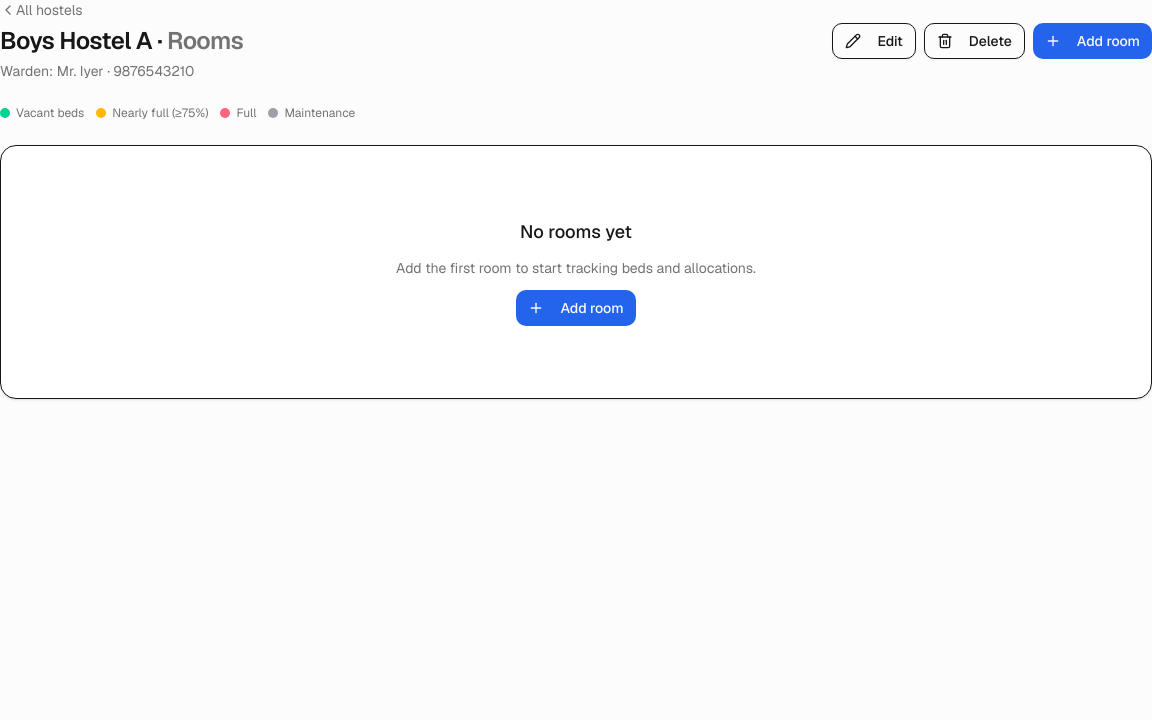
Test: deleting a hostel › asks before deleting, naming the hostel
Expected: the heading "Boys Hostel A · Rooms" is shown, x1=0 y1=25 x2=243 y2=57
Click the button with aria-label "delete hostel" at (974, 40), box x1=924 y1=22 x2=1025 y2=58
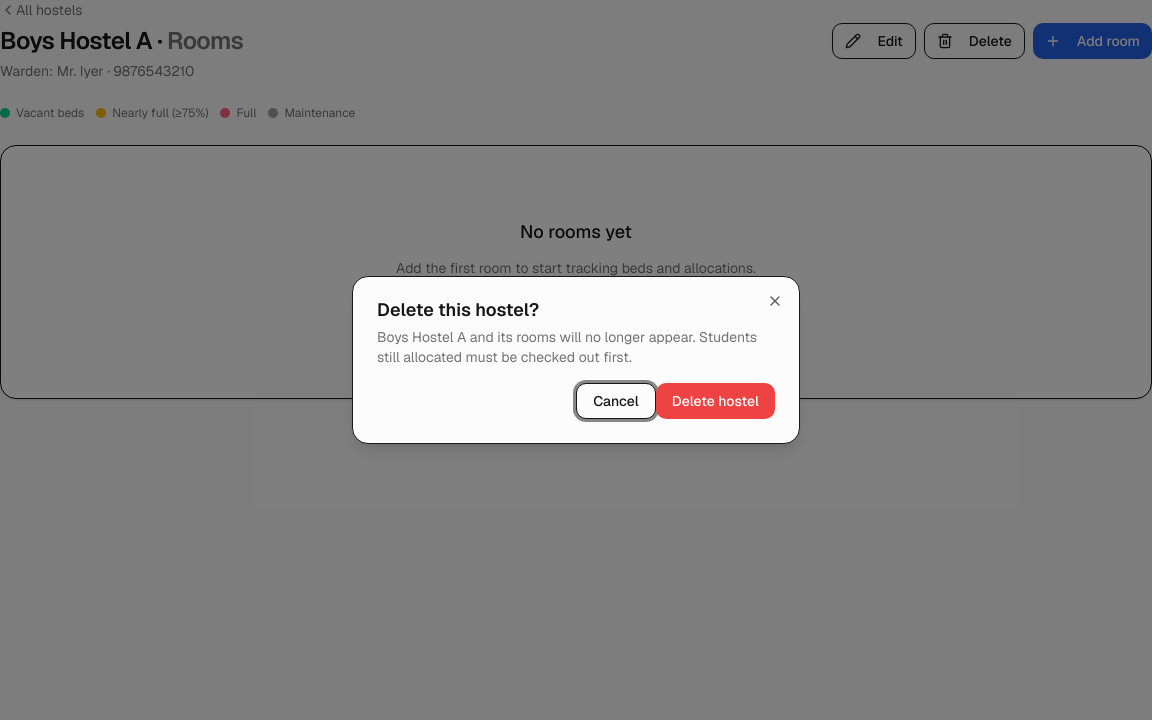
Expected: the heading "Delete this hostel?" is shown, x1=377 y1=298 x2=539 y2=321
Expected: the text "Boys Hostel A and its rooms" is shown, x1=377 y1=328 x2=757 y2=366
